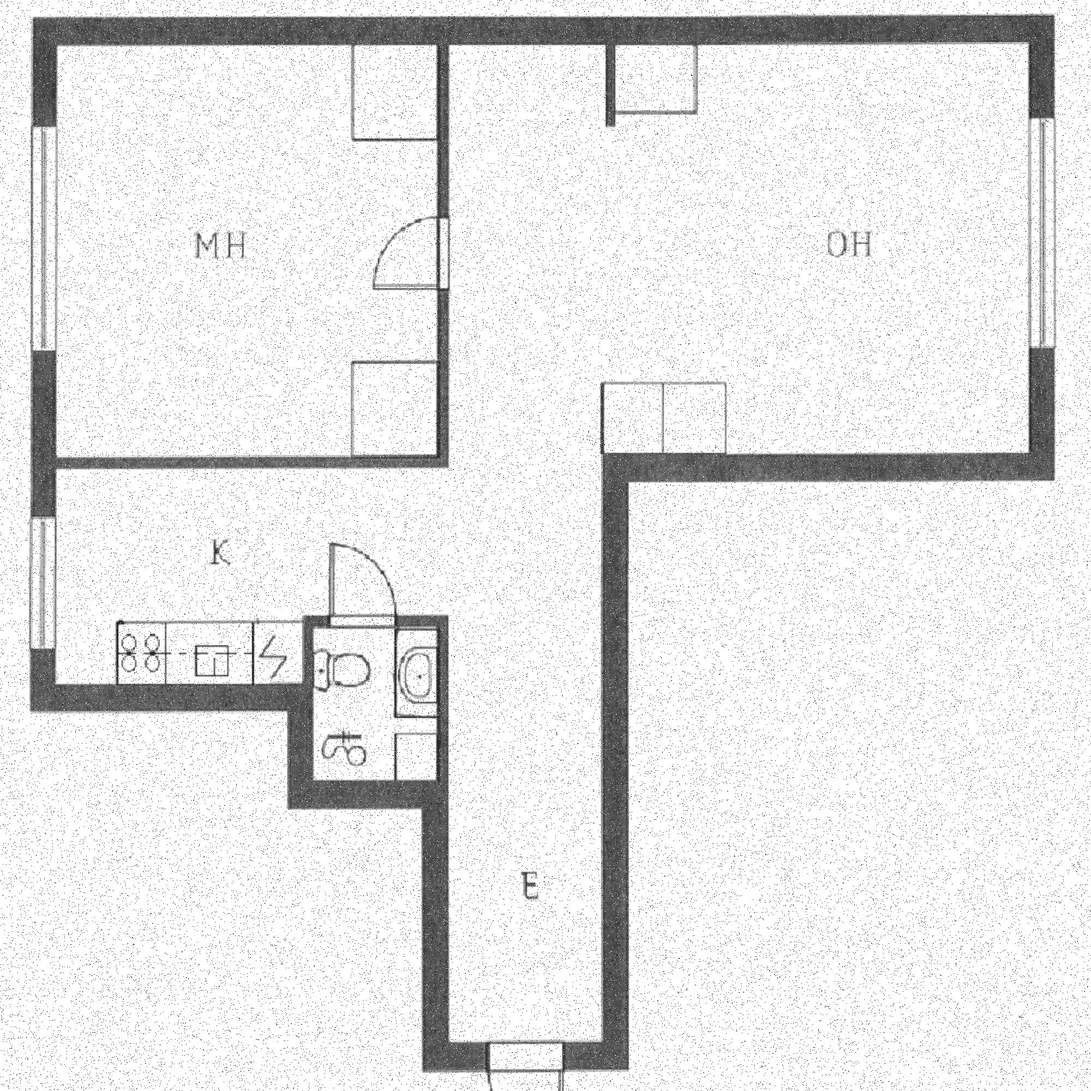wall: (30, 16, 1054, 44), (30, 16, 56, 712), (602, 453, 628, 1070), (602, 453, 1054, 480), (1029, 16, 1054, 480), (30, 684, 313, 712), (422, 779, 448, 1069), (422, 1042, 628, 1070), (30, 455, 448, 468), (437, 16, 449, 467), (286, 779, 447, 807), (287, 684, 313, 808), (438, 616, 448, 808), (302, 616, 448, 627), (604, 16, 615, 126), (302, 616, 313, 712)
